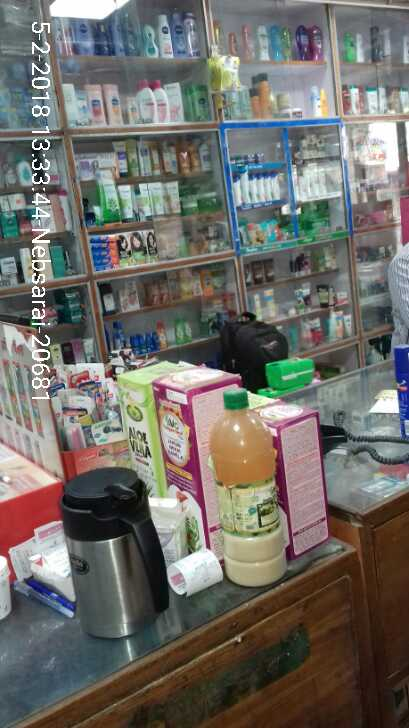vicks: (227, 149, 267, 166)
